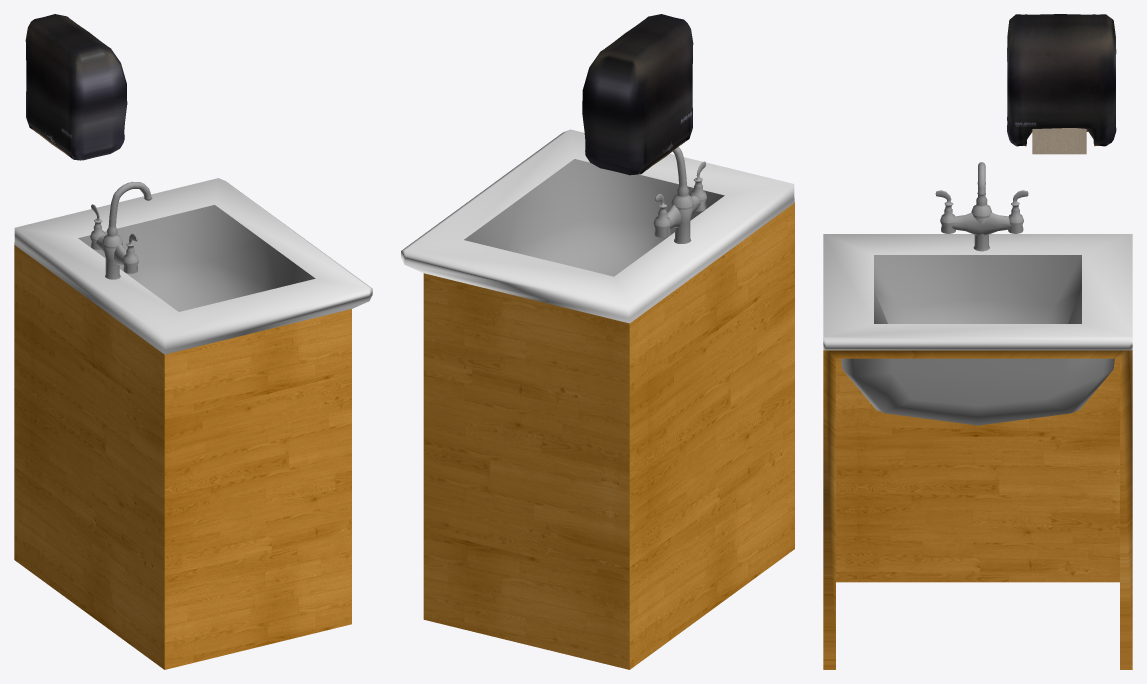
Rendered from welcome_room_sink.fbx.
3 renders of one model, left to right at view 1: azimuth 30°, elevation 25°; view 2: azimuth 150°, elevation 25°; view 3: azimuth 270°, elevation 25°, orthographic. The views are drawn at different scales.
Parts seen in each view (by area): view 1: cabinet, paper_towel_dispenser1, faucet; view 2: cabinet, paper_towel_dispenser1, faucet; view 3: cabinet, pCube1, paper_towel_dispenser1, paper_towel, pipe2, faucet, right_handle, left_handle.
Boxes of the visible parts, x1,y1,x2,y2 form: cabinet: (14,178,372,669); paper_towel_dispenser1: (25,14,127,160); faucet: (102,181,152,279); cabinet: (401,129,794,669); paper_towel_dispenser1: (582,14,693,175); faucet: (671,147,693,243); cabinet: (823,234,1132,669); pCube1: (841,358,1114,425); paper_towel_dispenser1: (1007,14,1116,146); paper_towel: (1032,128,1086,154); pipe2: (951,212,1012,235); faucet: (971,162,992,251); right_handle: (1008,190,1028,233); left_handle: (935,190,955,233).
Bounding box in the file's own units: 1.51 × 3.78 × 1.87.
4 materials, 2 textured.
